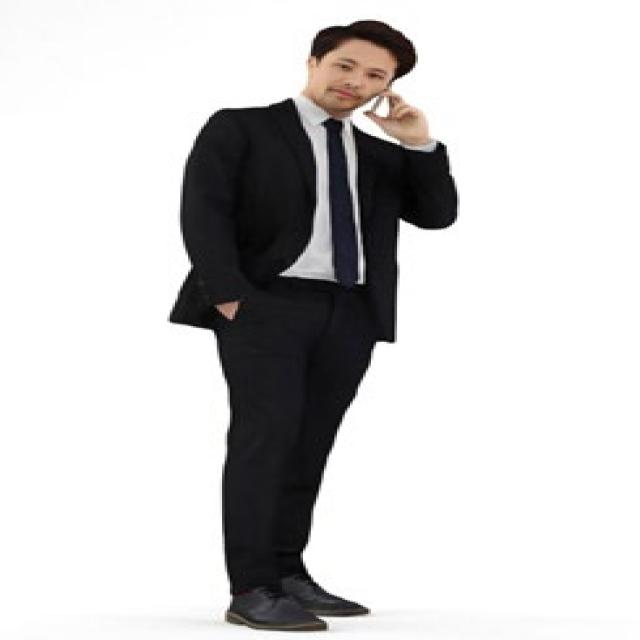standing: (154, 17, 478, 632)
